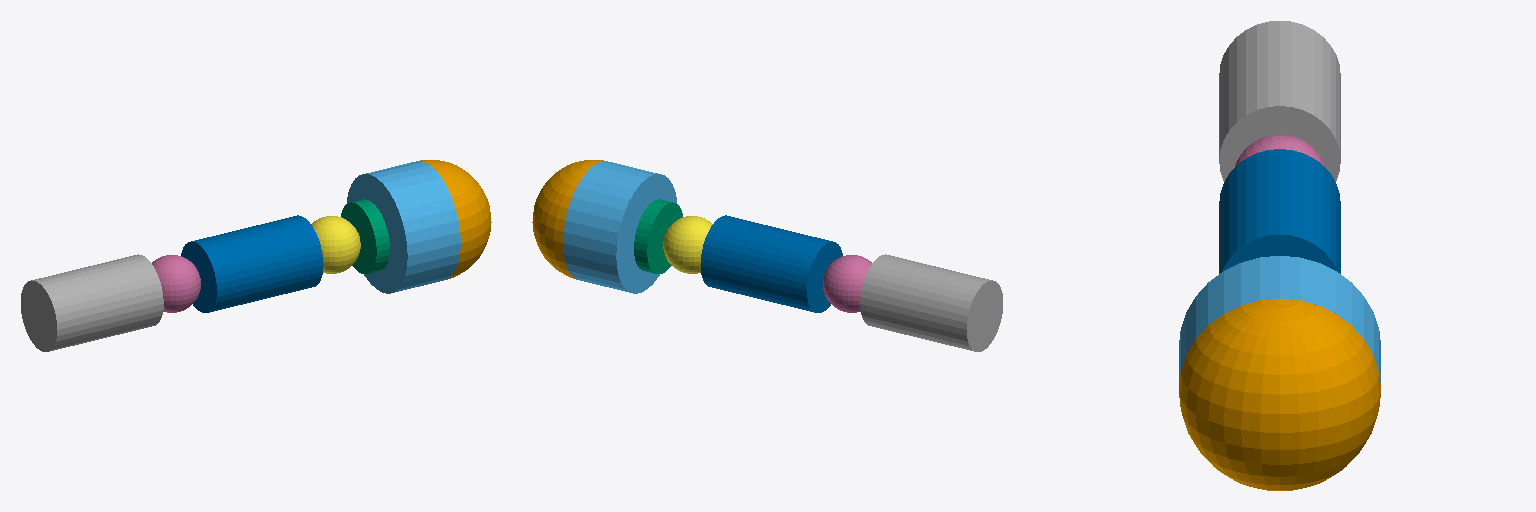
The robot description file, URDF, robot "robots/snake":
<?xml version="1.0"?>
<robot name="robots/snake">
<link name="eye">
  <inertial>
   <mass value="1"/>
   <inertia ixx="0.004" ixy="0" ixz="0" iyy="0.004" iyz="0" izz="0.004"/>
  </inertial>
  <collision>
    <origin rpy="0 0 0" xyz="0 0 0"/>
    <geometry>
      <sphere radius="0.1"/>
    </geometry>
  </collision>
  <visual>
    <origin rpy="0 0 0" xyz="0 0 0"/>
    <geometry>
      <sphere radius="0.1"/>
    </geometry>
  </visual>
</link>

 <link name="head">
  <inertial>
    <mass value="1"/>
    <inertia ixx="0.00333333333333" ixy="0" ixz="0" iyy="0.00333333333333" iyz="0" izz="0.0025"/>
  </inertial>
  <visual>
    <origin rpy="0 1.57 0" xyz="-0.05 0 0"/>
    <geometry>
      <cylinder length="0.1" radius="0.1"/>
    </geometry>
  </visual>
  <collision>
    <origin rpy="0 1.57 0" xyz="-0.05 0 0"/>
    <geometry>
      <cylinder length="0.1" radius="0.1"/>
    </geometry>
  </collision>
 </link>

<joint name="joint_eye_head" type="fixed">
  <origin rpy="0 0 0" xyz="0 0 0"/>
  <parent link="eye"/>
  <child link="head"/>
</joint>

<!--############################################################################
body0
##############################################################################-->
 <link name="body0_cylinder">
  <inertial>
    <mass value="1"/>
    <inertia ixx="0.000952083333333" ixy="0" ixz="0" iyy="0.000952083333333" iyz="0" izz="0.0009"/>
  </inertial>
  <visual>
    <origin rpy="0 1.57 0" xyz="-0.0125 0 0"/>
    <geometry>
      <cylinder length="0.025" radius="0.06"/>
    </geometry>
  </visual>
  <collision>
    <origin rpy="0 1.57 0" xyz="-0.0125 0 0"/>
    <geometry>
      <cylinder length="0.025" radius="0.06"/>
    </geometry>
  </collision>
 </link>

<joint name="head_body0_joint" type="fixed">
  <origin rpy="0 0 0" xyz="-0.11 0 0"/>
  <parent link="head"/>
  <child link="body0_cylinder"/>
</joint>

<link name="body0">
  <inertial>
   <mass value="1"/>
   <inertia ixx="0.0009025" ixy="0" ixz="0" iyy="0.0009025" iyz="0" izz="0.0009025"/>
  </inertial>
  <collision>
    <origin rpy="0 0 0" xyz="-0.075 0 0"/>
    <geometry>
      <sphere radius="0.0475"/>
    </geometry>
  </collision>
  <visual>
    <origin rpy="0 0 0" xyz="-0.075 0 0"/>
    <geometry>
      <sphere radius="0.0475"/>
    </geometry>
  </visual>
</link>

<joint name="body0_fixed" type="fixed">
  <origin rpy="0 0 0" xyz="0 0 0"/>
  <parent link="body0_cylinder"/>
  <child link="body0"/>
</joint>

 <link name="body1_cylinder">
  <inertial>
    <mass value="1"/>
    <inertia ixx="0.00423333333333" ixy="0" ixz="0" iyy="0.00423333333333" iyz="0" izz="0.0009"/>
  </inertial>
  <visual>
    <origin rpy="0 1.57 0" xyz="-0.15 0 0"/>
    <geometry>
      <cylinder length="0.2" radius="0.06"/>
    </geometry>
  </visual>
  <collision>
    <origin rpy="0 1.57 0" xyz="-0.15 0 0"/>
    <geometry>
      <cylinder length="0.2" radius="0.06"/>
    </geometry>
  </collision>
 </link>

<joint name="body0_body1_joint_revolute_Z" type="revolute">
  <origin rpy="0 0 0" xyz="-0.075 0 0"/>
  <parent link="body0"/>
  <child link="body0_spherical_joint_link"/>
  <axis xyz="0 0 1"/>
  <dynamics damping="0.01" friction="0.5"/>
  <limit lower="-0.785398163397" upper="0.785398163397" effort="0.01" velocity="100"/>
</joint>

<link name="body0_spherical_joint_link" physical="0">
  <inertial>
   <mass value="1"/>
   <inertia ixx="4e-07" ixy="0" ixz="0" iyy="4e-07" iyz="0" izz="4e-07"/>
  </inertial>
  <collision>
    <origin rpy="0 0 0" xyz="0 0 0"/>
    <geometry>
      <sphere radius="0.001"/>
    </geometry>
  </collision>
  <visual>
    <origin rpy="0 0 0" xyz="0 0 0"/>
    <geometry>
      <sphere radius="0.001"/>
    </geometry>
  </visual>
</link>

<joint name="body0_body1_joint_revolute_Y" type="revolute">
  <origin rpy="0 0 0" xyz="0 0 0"/>
  <parent link="body0_spherical_joint_link"/>
  <child link="body1_cylinder"/>
  <axis xyz="0 1 0"/>
  <dynamics damping="0.01" friction="0.5"/>
  <limit lower="-0.785398163397" upper="0.785398163397" effort="0.01" velocity="100"/>
</joint>

<link name="body1">
  <inertial>
   <mass value="1"/>
   <inertia ixx="0.0009025" ixy="0" ixz="0" iyy="0.0009025" iyz="0" izz="0.0009025"/>
  </inertial>
  <collision>
    <origin rpy="0 0 0" xyz="-0.3 0 0"/>
    <geometry>
      <sphere radius="0.0475"/>
    </geometry>
  </collision>
  <visual>
    <origin rpy="0 0 0" xyz="-0.3 0 0"/>
    <geometry>
      <sphere radius="0.0475"/>
    </geometry>
  </visual>
</link>

<joint name="body1_fixed" type="fixed">
  <origin rpy="0 0 0" xyz="0 0 0"/>
  <parent link="body1_cylinder"/>
  <child link="body1"/>
</joint>

 <link name="body2_cylinder">
  <inertial>
    <mass value="1"/>
    <inertia ixx="0.00423333333333" ixy="0" ixz="0" iyy="0.00423333333333" iyz="0" izz="0.0009"/>
  </inertial>
  <visual>
    <origin rpy="0 1.57 0" xyz="-0.15 0 0"/>
    <geometry>
      <cylinder length="0.2" radius="0.06"/>
    </geometry>
  </visual>
  <collision>
    <origin rpy="0 1.57 0" xyz="-0.15 0 0"/>
    <geometry>
      <cylinder length="0.2" radius="0.06"/>
    </geometry>
  </collision>
 </link>

<joint name="body1_body2_joint_revolute_Z" type="revolute">
  <origin rpy="0 0 0" xyz="-0.3 0 0"/>
  <parent link="body1"/>
  <child link="body1_spherical_joint_link"/>
  <axis xyz="0 0 1"/>
  <dynamics damping="0.01" friction="0.5"/>
  <limit lower="-0.785398163397" upper="0.785398163397" effort="0.01" velocity="100"/>
</joint>

<link name="body1_spherical_joint_link" physical="0">
  <inertial>
   <mass value="1"/>
   <inertia ixx="4e-07" ixy="0" ixz="0" iyy="4e-07" iyz="0" izz="4e-07"/>
  </inertial>
  <collision>
    <origin rpy="0 0 0" xyz="0 0 0"/>
    <geometry>
      <sphere radius="0.001"/>
    </geometry>
  </collision>
  <visual>
    <origin rpy="0 0 0" xyz="0 0 0"/>
    <geometry>
      <sphere radius="0.001"/>
    </geometry>
  </visual>
</link>

<joint name="body1_body2_joint_revolute_Y" type="revolute">
  <origin rpy="0 0 0" xyz="0 0 0"/>
  <parent link="body1_spherical_joint_link"/>
  <child link="body2_cylinder"/>
  <axis xyz="0 1 0"/>
  <dynamics damping="0.01" friction="0.5"/>
  <limit lower="-0.785398163397" upper="0.785398163397" effort="0.01" velocity="100"/>
</joint>

  <klampt package_root="../../.." default_acc_max="4" >
  </klampt>
</robot>

--- Render facts (derived) ---
The picture shows the robot from 3 angles, left to right: view 1: azimuth 30°, elevation 25°; view 2: azimuth 150°, elevation 25°; view 3: azimuth 270°, elevation 25°; orthographic projection.
Robot: robots/snake — 9 links, 8 joints (4 revolute, 4 fixed); root link eye; default pose: all joints at 0.
Links seen in each view (by area): view 1: body2_cylinder, head, body1_cylinder, eye, body0_cylinder, body0, body1; view 2: body2_cylinder, head, body1_cylinder, eye, body0_cylinder, body0, body1; view 3: eye, body2_cylinder, body1_cylinder, head, body1.
Link boxes in pixels (x1,y1,x2,y2): body2_cylinder: [21, 254, 163, 351]; head: [347, 161, 460, 293]; body1_cylinder: [181, 215, 323, 312]; eye: [420, 160, 491, 279]; body0_cylinder: [341, 199, 389, 273]; body0: [311, 216, 360, 273]; body1: [152, 255, 200, 312]; body2_cylinder: [860, 254, 1002, 351]; head: [563, 161, 676, 293]; body1_cylinder: [700, 215, 842, 312]; eye: [532, 160, 603, 279]; body0_cylinder: [634, 199, 682, 273]; body0: [663, 216, 712, 273]; body1: [823, 255, 871, 312]; eye: [1179, 298, 1380, 490]; body2_cylinder: [1219, 21, 1340, 181]; body1_cylinder: [1219, 149, 1340, 273]; head: [1179, 256, 1380, 382]; body1: [1235, 135, 1324, 166].
Bounding box of the posed robot: 0.835 × 0.2 × 0.2001 m (x, y, z).
Geometry: primitives only (box / cylinder / sphere), no mesh files.